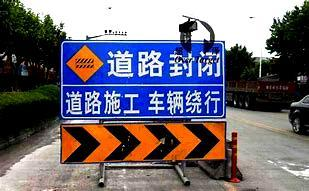sign: (59, 40, 227, 161)
